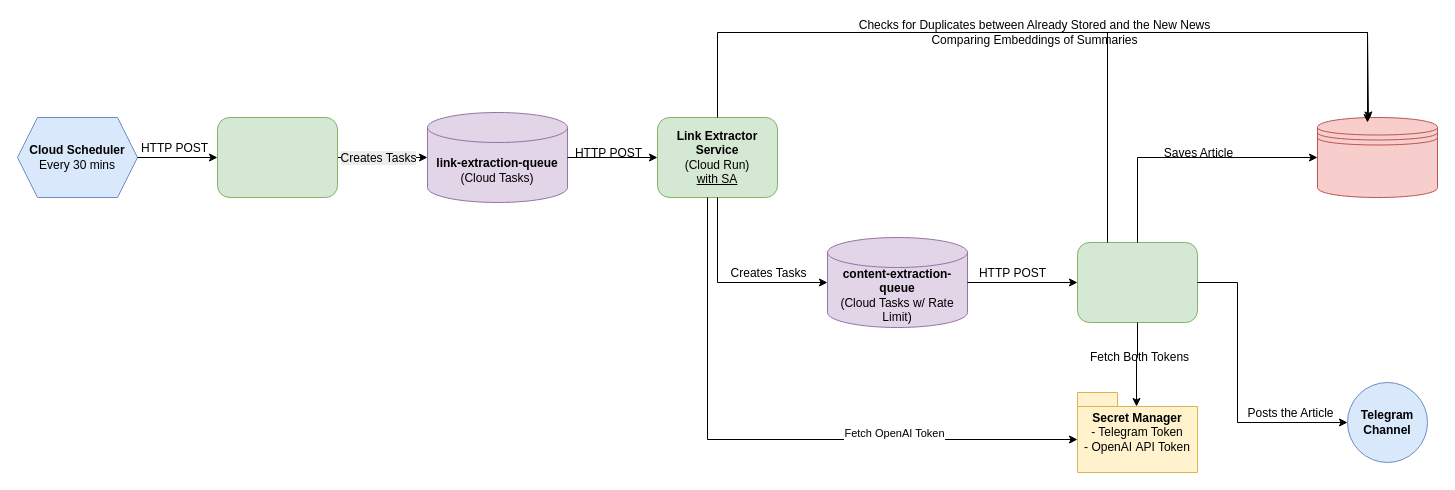
The diagram is 1455 pixels wide and 490 high, and some of its shapes have lost their labels. Each missing label, with the centre of its shape:
Content Extractor Service (Cloud Run) with SA: (x=1137, y=282)
Dispatcher Service (Cloud Function) with SA: (x=277, y=157)
Firestore TTL Policy: 7 days: (x=1377, y=157)
